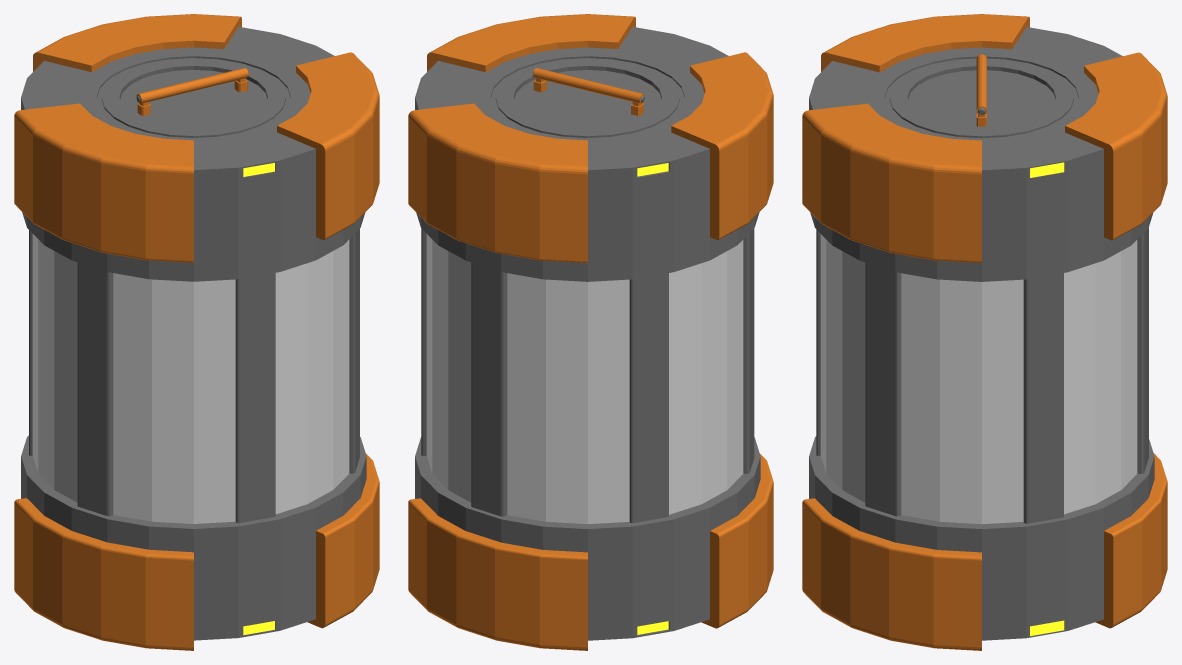
File: Chest 1.fbx
The picture shows the model from 3 angles, left to right: view 1: azimuth 30°, elevation 25°; view 2: azimuth 150°, elevation 25°; view 3: azimuth 270°, elevation 25°; orthographic projection.
Visible parts, largest first — view 1: Cylinder; view 2: Cylinder; view 3: Cylinder.
Part boxes in pixels (box(x1,y1,x2,y2)): Cylinder: box(14, 14, 379, 650); Cylinder: box(408, 14, 773, 650); Cylinder: box(802, 14, 1167, 650).
Size of the model in its own units: 215 by 321 by 211.
